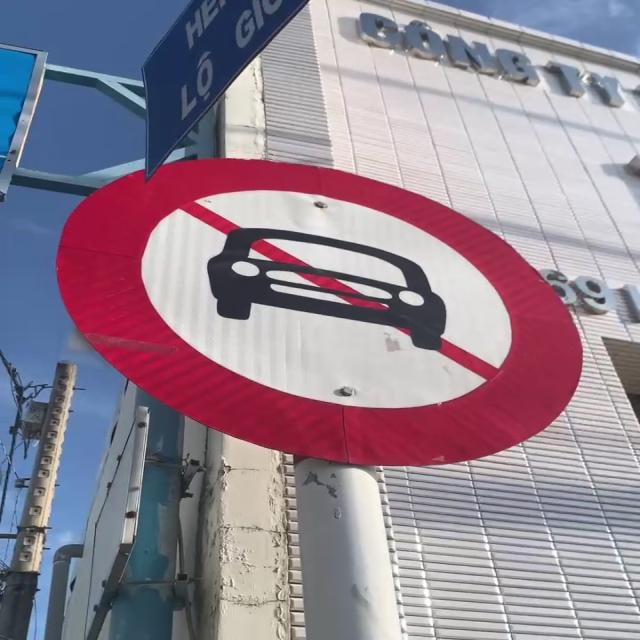Cam_O_To: (54, 150, 584, 468)
